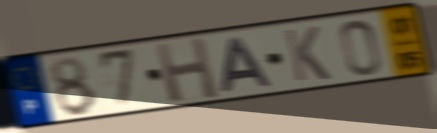0: (338, 17, 384, 78)
7: (96, 46, 139, 110)
8: (48, 55, 99, 117)
A: (220, 35, 276, 94)
H: (152, 35, 222, 105)
K: (281, 24, 333, 84)
